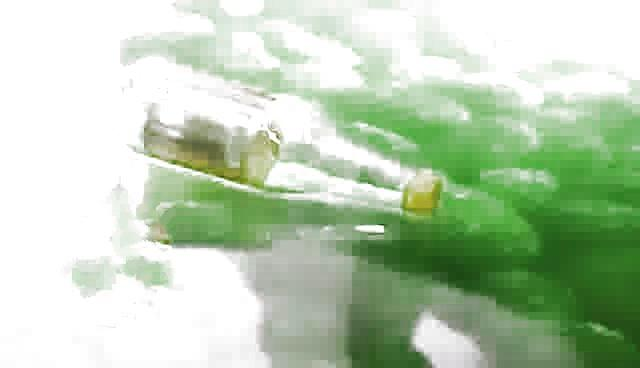Plastic: (113, 59, 450, 227)
